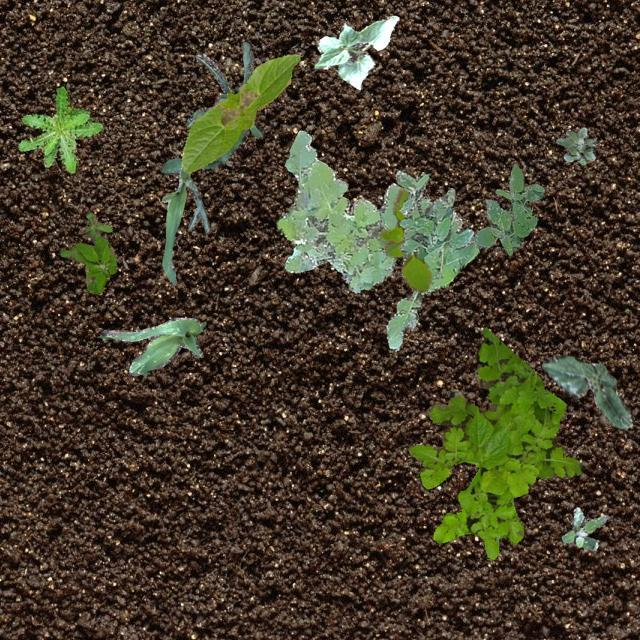crop: (180, 54, 300, 172), (160, 40, 264, 174), (540, 354, 632, 428), (97, 316, 205, 374), (314, 15, 398, 89), (160, 164, 208, 284)
weed: (276, 130, 478, 350), (408, 326, 582, 558), (17, 86, 102, 172), (394, 168, 472, 258), (472, 164, 544, 254), (378, 188, 431, 292), (60, 210, 116, 294), (560, 506, 606, 550), (554, 126, 596, 164)
